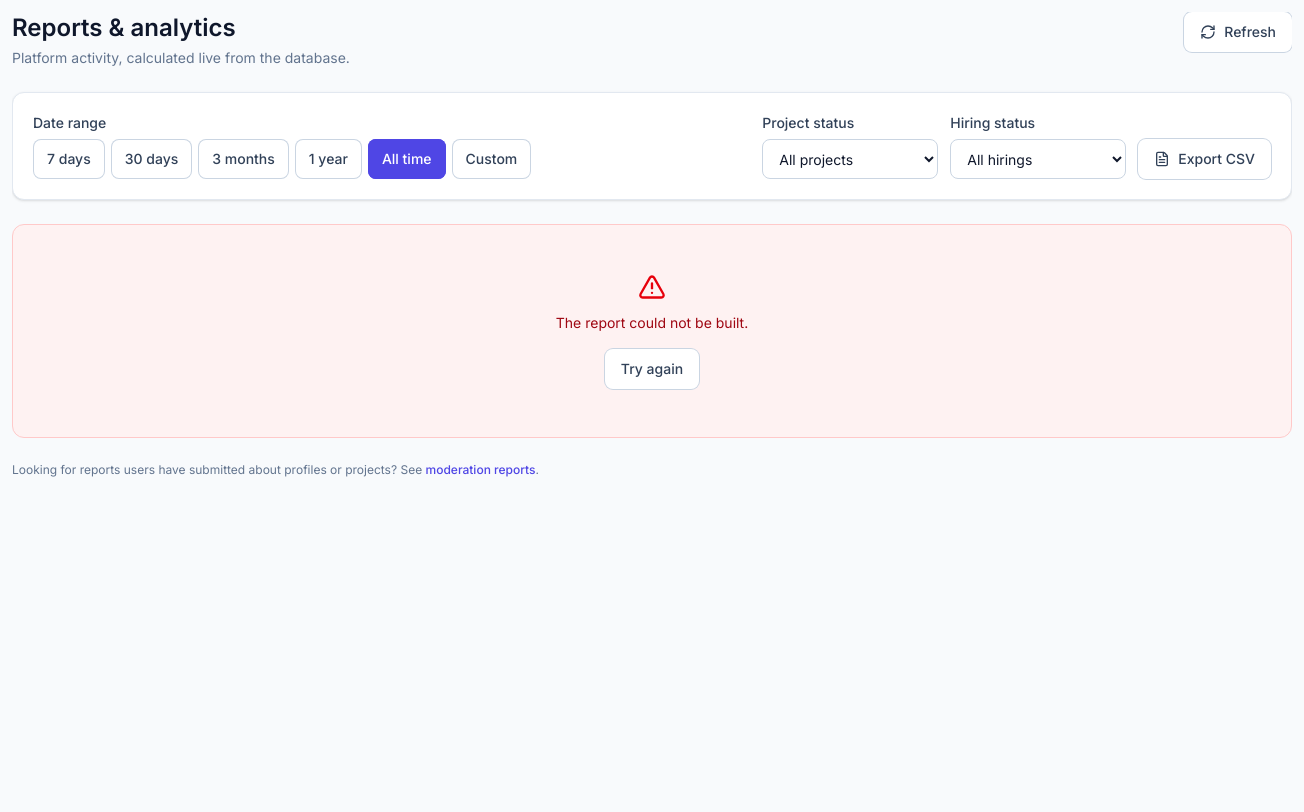
it: the page › a failed first load shows the error with a retry that works
This screenshot has width=1304, height=812.
Expected: the message shows "The report could not be built.", [556,314,748,331]
What coordinates should you click on to do the following:
click the button "Try again"
I would click on:
 (652, 369)
Its box is [605,349,699,389].
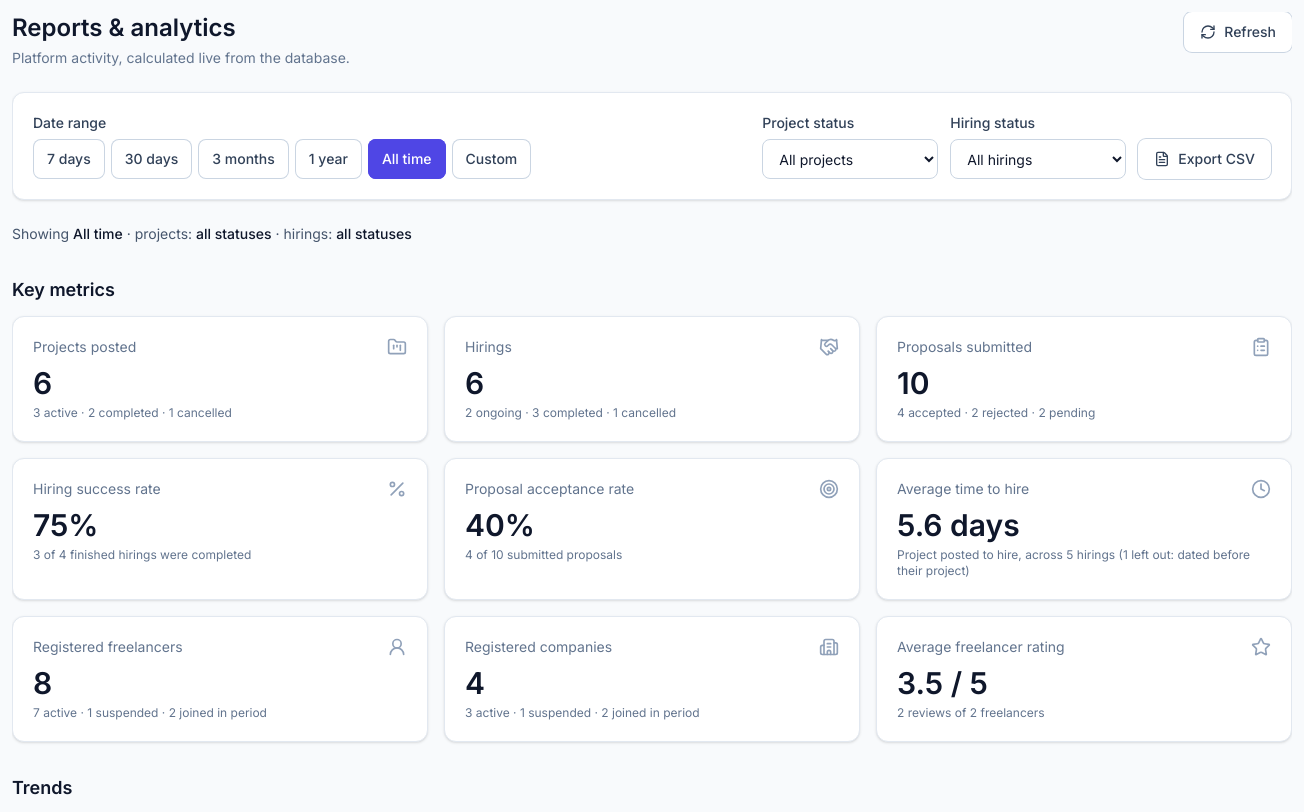
Now the heading "Key metrics" is shown, box [12,279,115,300]
